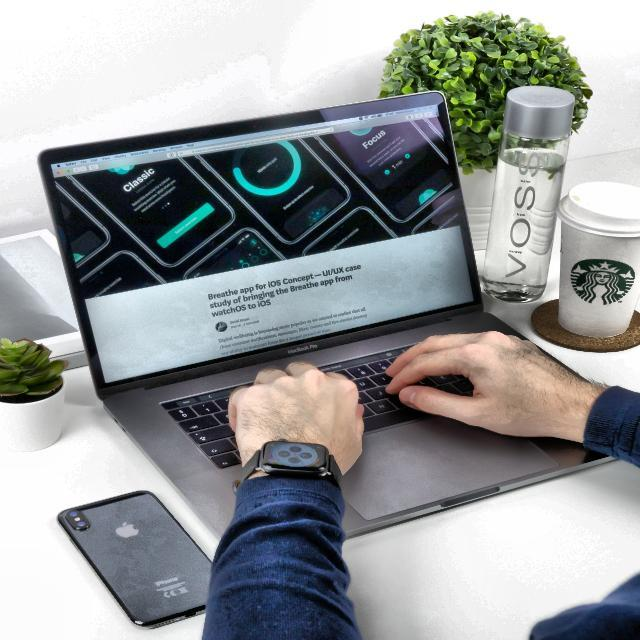Phone: (54, 489, 215, 630)
